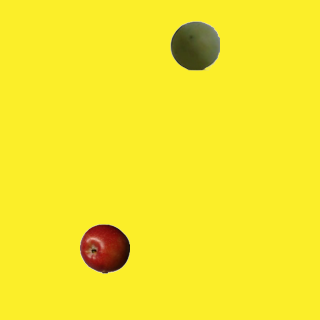Apple Braeburn: (79, 223, 129, 273)
Grape White 4: (169, 20, 219, 70)
